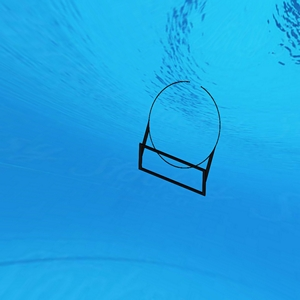circle: (136, 79, 225, 202)
